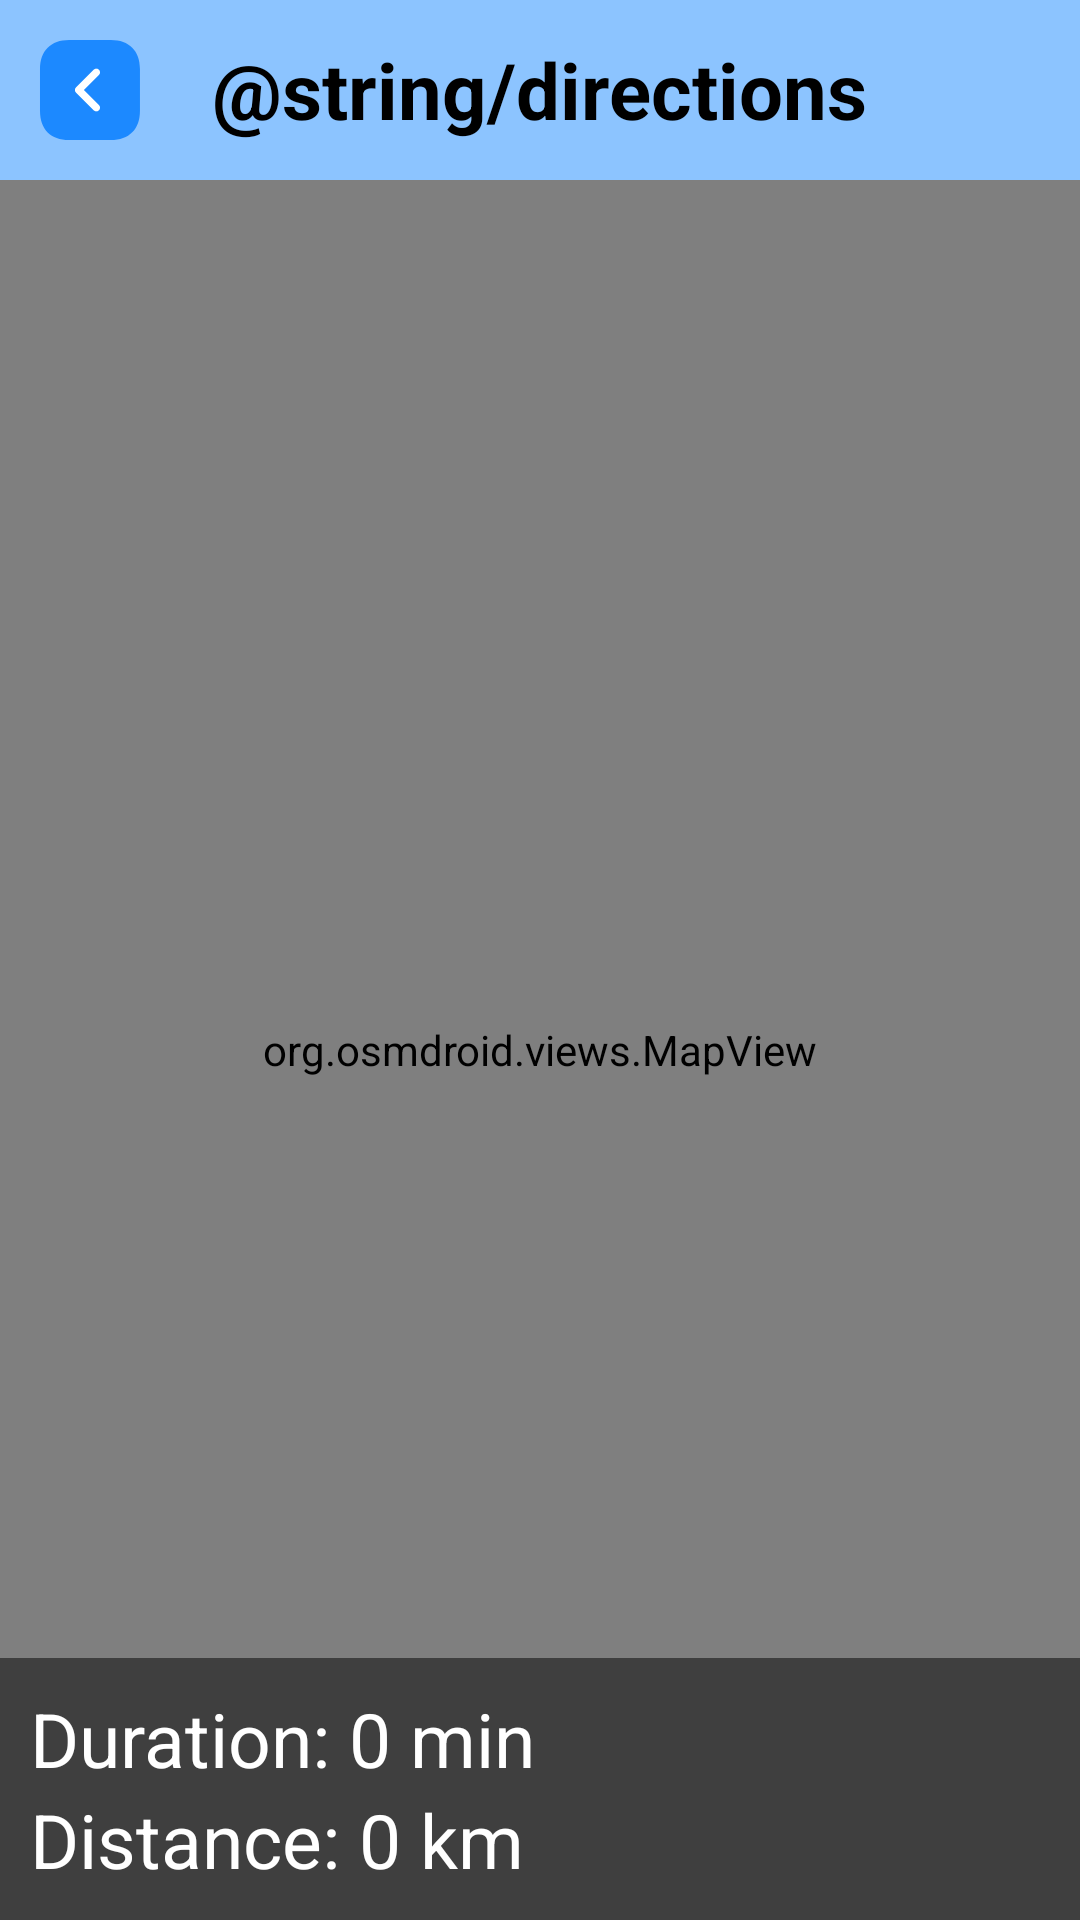

Named icons in this screenshot (1080w x 1920h) and their bounding boxes, (x1, y1, x2, y2):
arrow square left: (40, 40, 140, 140)
